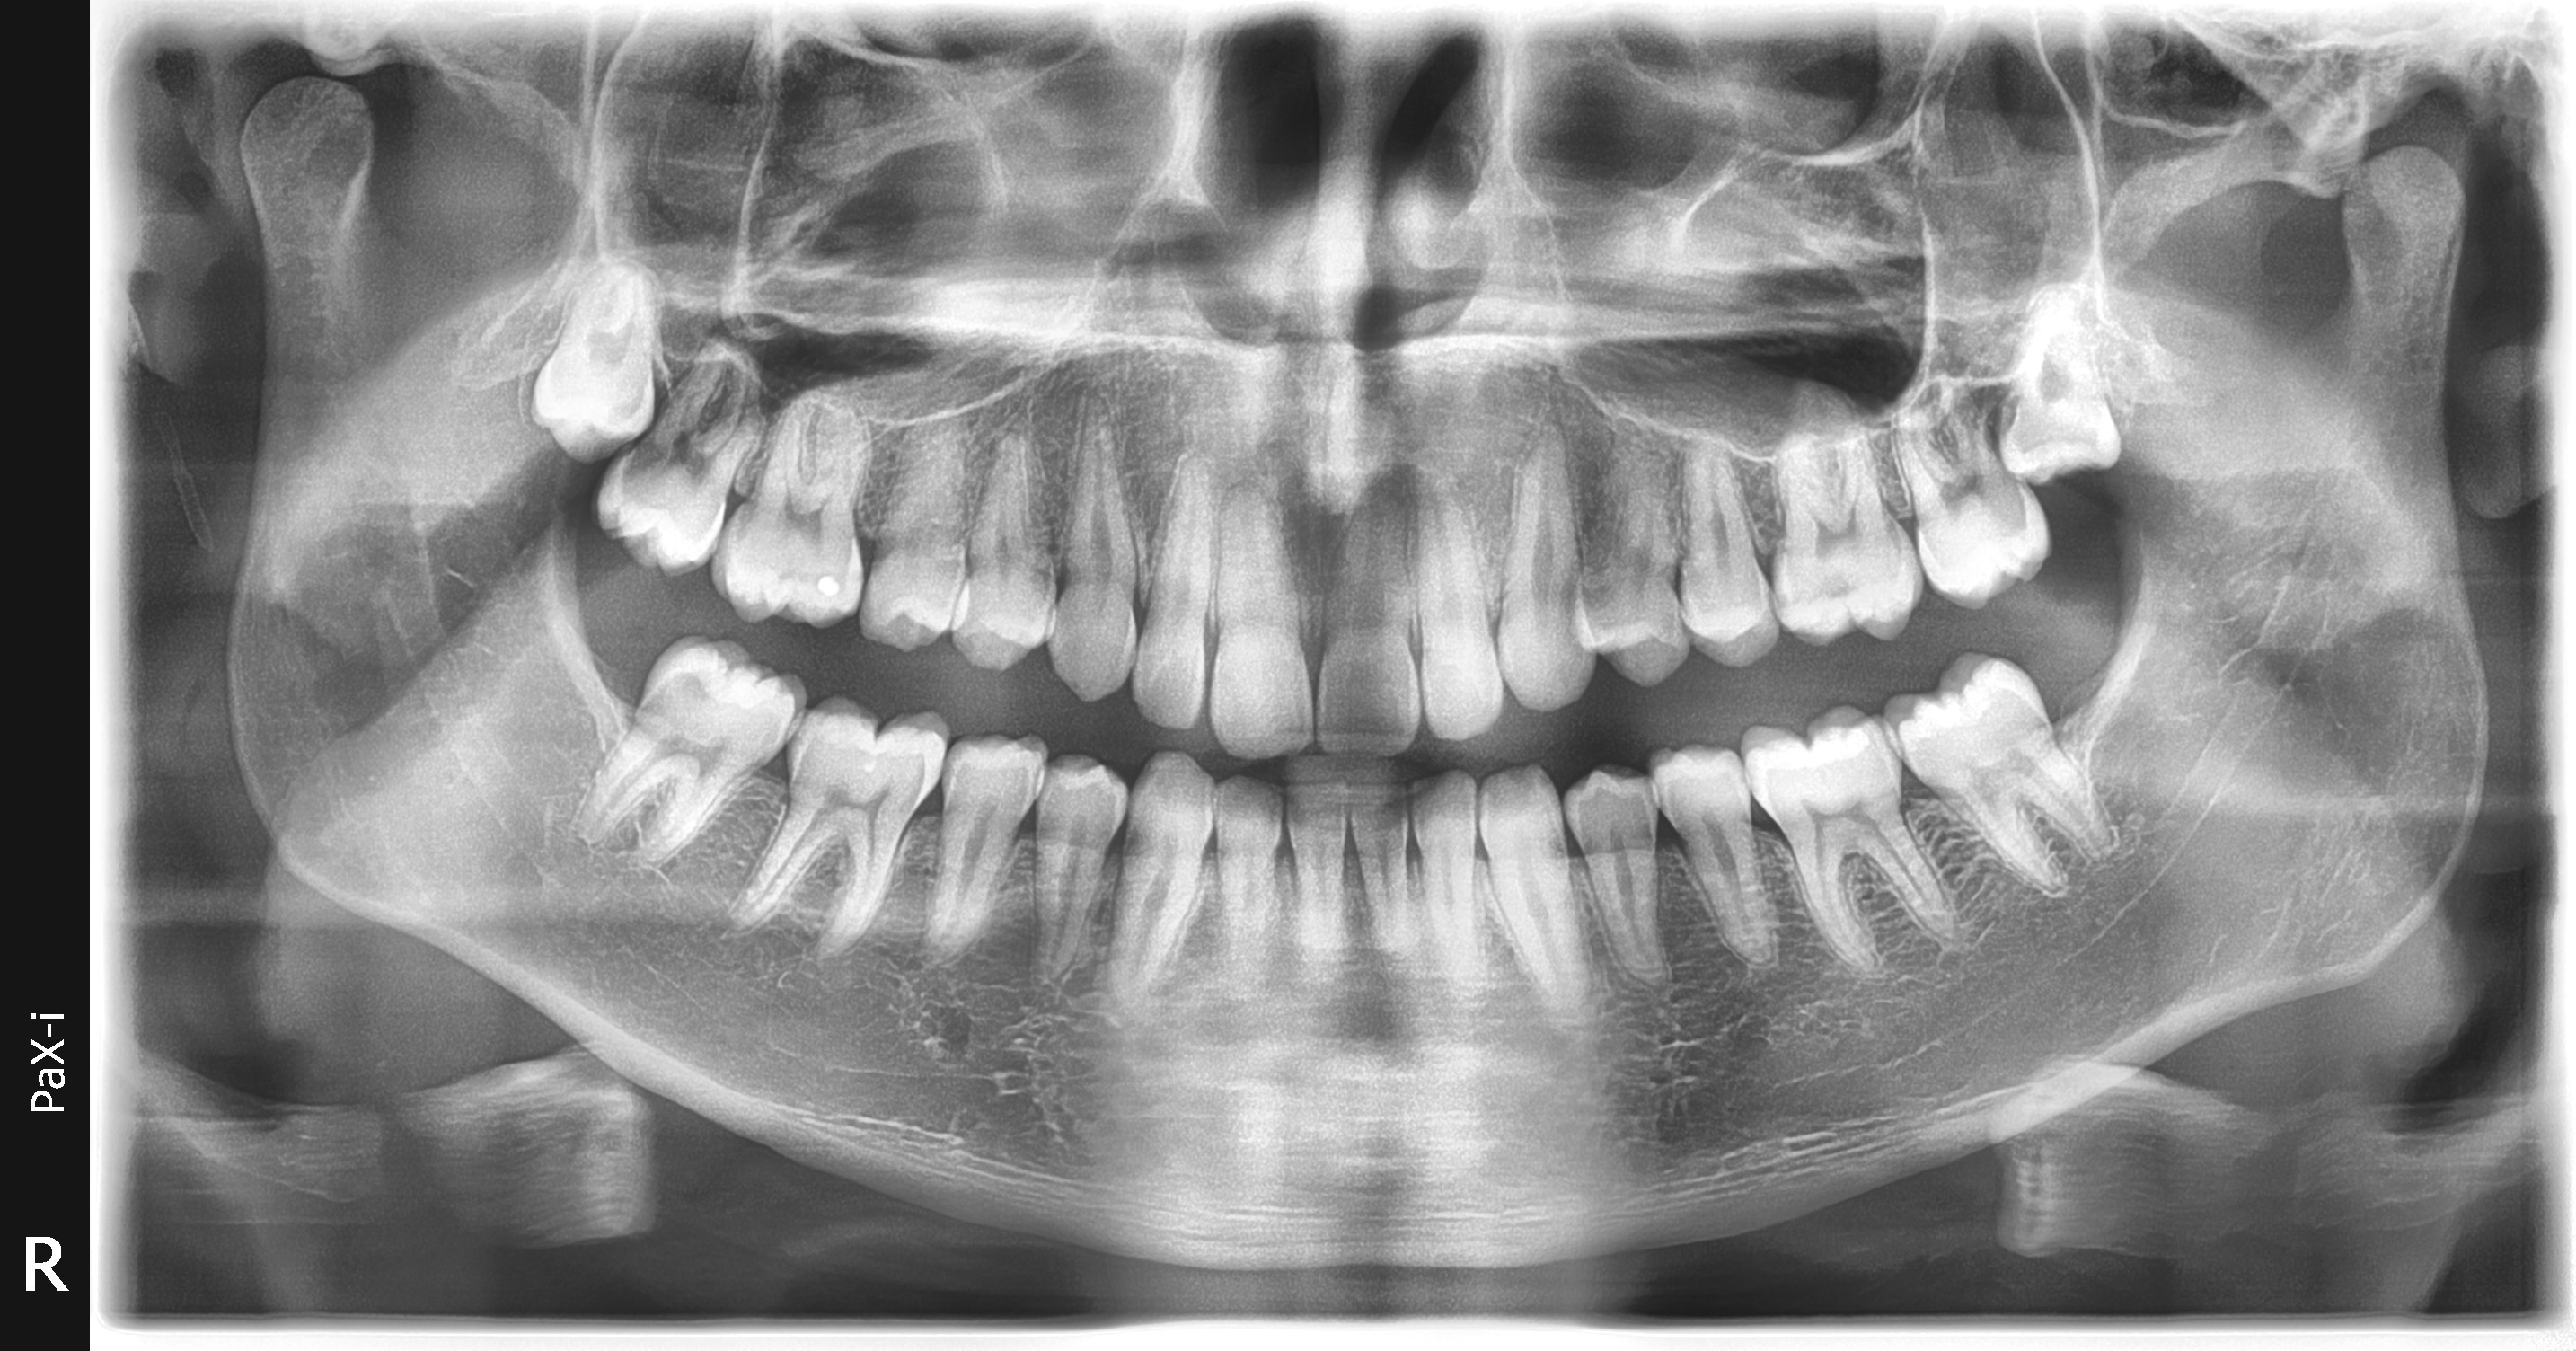IMT: (532, 266, 664, 455), (1998, 285, 2125, 479)
OBT: (739, 564, 854, 620)
